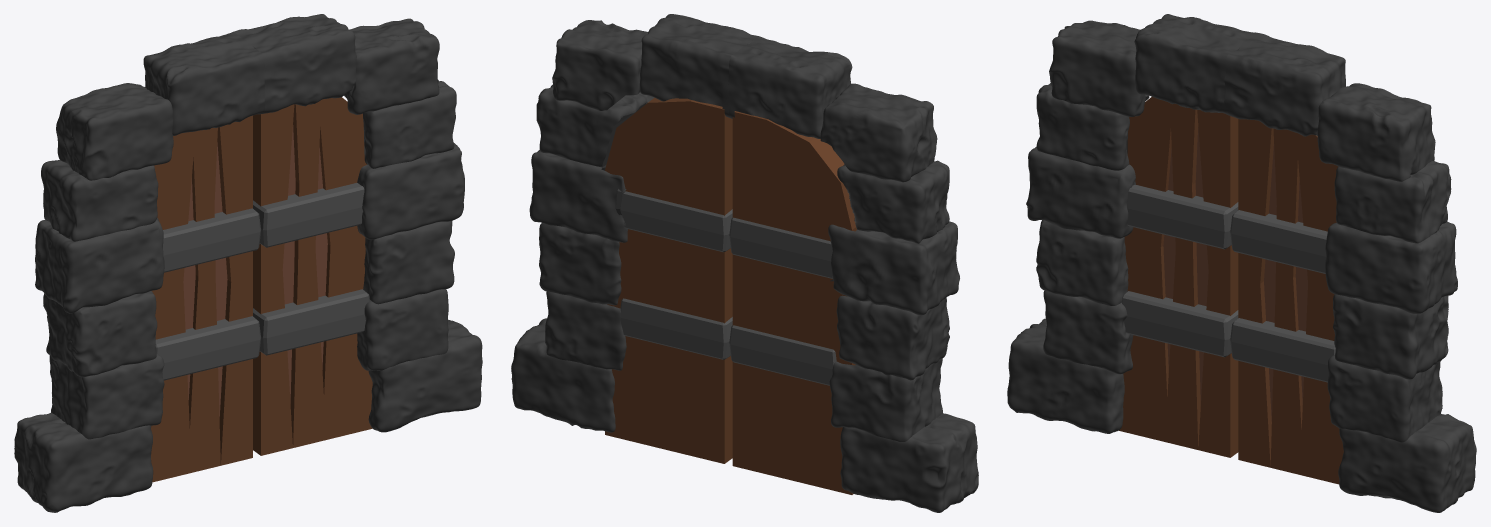
File: Door.2024.08.26.fbx
3 renders of one model, left to right at view 1: azimuth 30°, elevation 25°; view 2: azimuth 150°, elevation 25°; view 3: azimuth 330°, elevation 25°, orthographic.
Parts seen in each view (by area): view 1: Cube.001, Cube; view 2: Cube.001, Cube; view 3: Cube.001, Cube.
Boxes of the visible parts, x1=… form: Cube.001: x1=14, y1=14, x2=482, y2=512; Cube: x1=151, y1=97, x2=372, y2=482; Cube.001: x1=511, y1=14, x2=978, y2=512; Cube: x1=605, y1=98, x2=856, y2=494; Cube.001: x1=1007, y1=14, x2=1476, y2=512; Cube: x1=1119, y1=97, x2=1343, y2=484.
Bounding box in the file's own units: 371 × 332 × 56.28.
